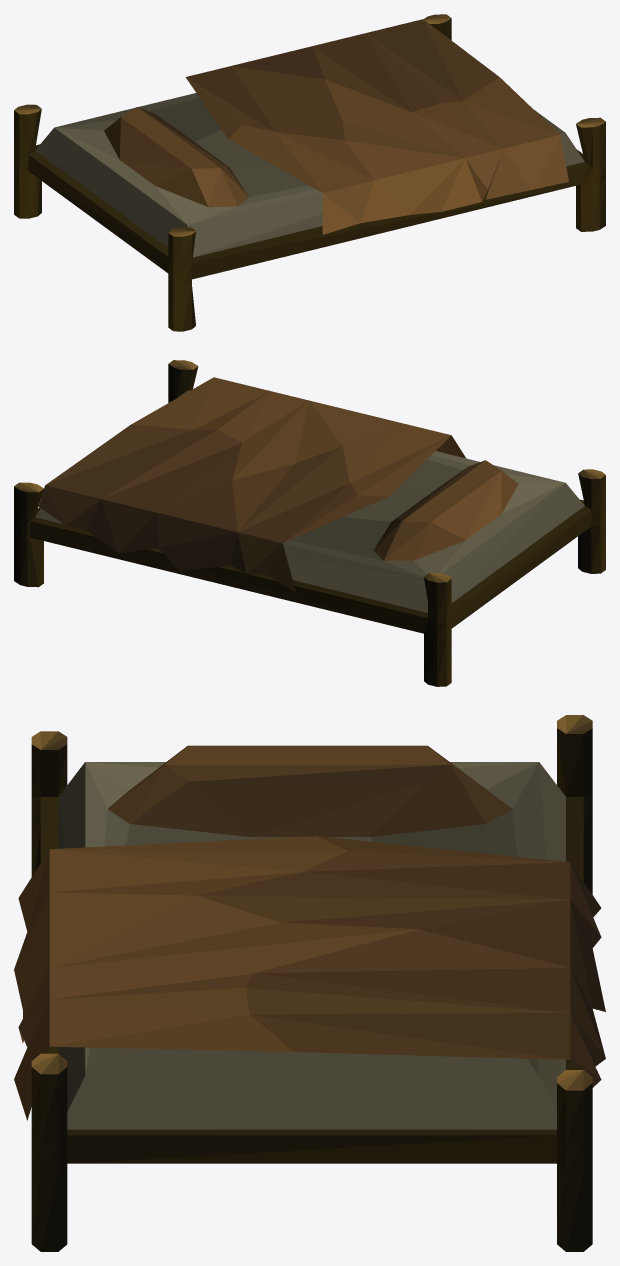
File: basic_bed.obj
The picture shows the model from 3 angles, top to bottom: view 1: azimuth 30°, elevation 25°; view 2: azimuth 150°, elevation 25°; view 3: azimuth 270°, elevation 25°; orthographic projection. The views are drawn at different scales.
Visible parts, largest first — view 1: Object Bed 2026-10-20_19-10-47; view 2: Object Bed 2026-10-20_19-10-47; view 3: Object Bed 2026-10-20_19-10-47.
Boxes of the visible parts, x1=… form: Object Bed 2026-10-20_19-10-47: x1=14, y1=14, x2=605, y2=331; Object Bed 2026-10-20_19-10-47: x1=14, y1=360, x2=605, y2=686; Object Bed 2026-10-20_19-10-47: x1=14, y1=715, x2=605, y2=1251.
Bounding box in the file's own units: 191 × 49 × 133.
